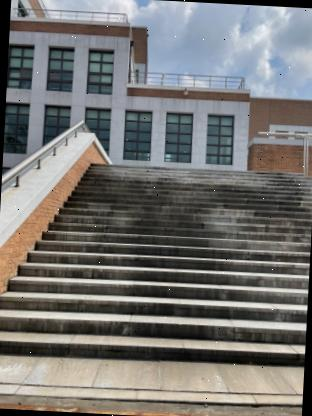stair: (0, 144, 312, 372)
